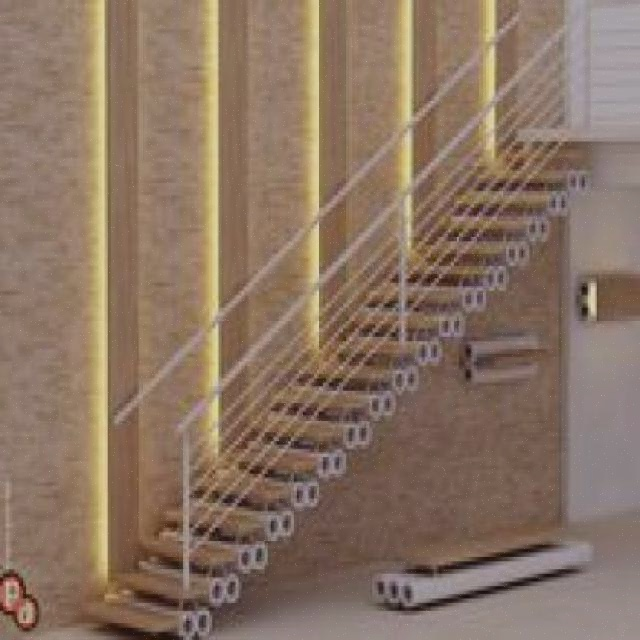stair: (68, 77, 586, 638)
